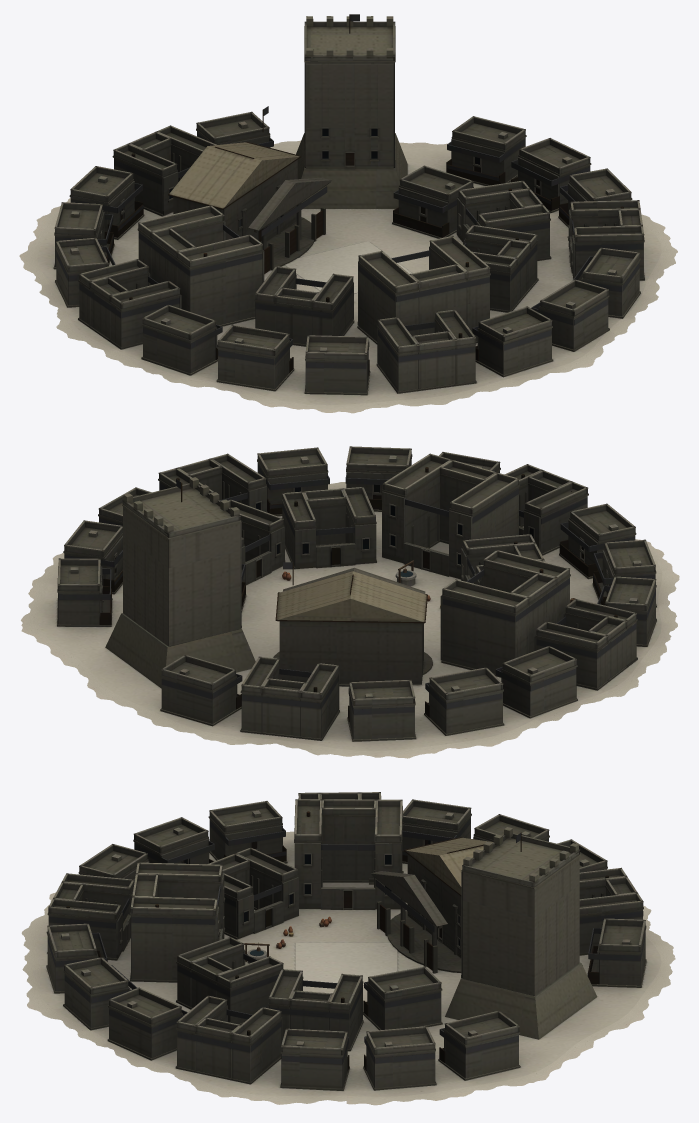
Rendered from classical-town-big-a-israelite.glb.
3 views of the same model, one above another, from view 1: azimuth 30°, elevation 25°; view 2: azimuth 150°, elevation 25°; view 3: azimuth 270°, elevation 25° (orthographic).
Visible parts, largest first — view 1: LOD0; view 2: LOD0; view 3: LOD0.
Part boxes in pixels (bbox=[...]): LOD0: bbox=[19, 14, 677, 413]; LOD0: bbox=[21, 446, 679, 758]; LOD0: bbox=[21, 792, 675, 1105].
Size of what is drawn, in the model's own units: 7.91 by 2.3 by 7.92.
3 materials, 3 textured.
